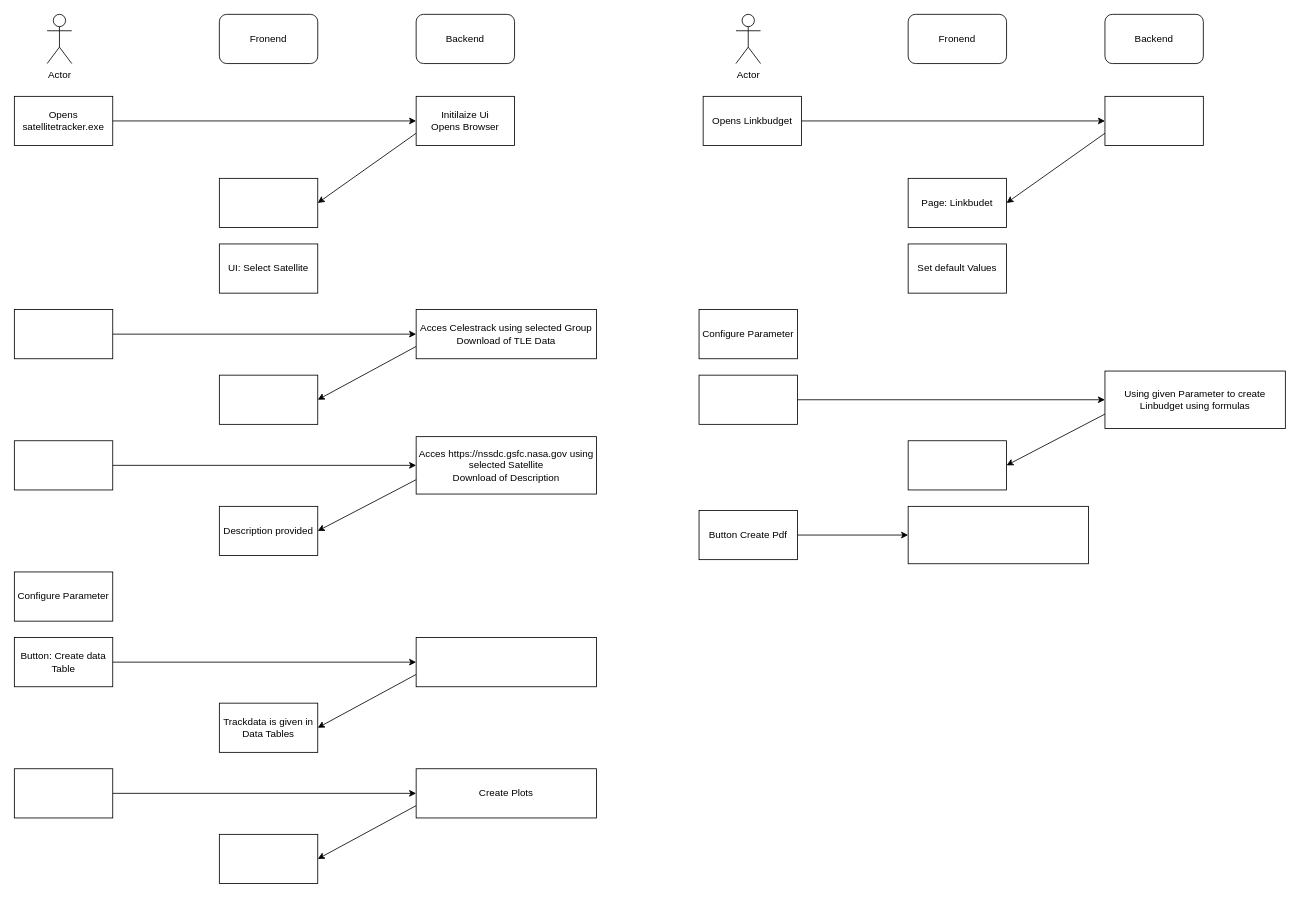
This 1300x898 diagram has some shape labels left out. The box of each missing label's shape, as (x1, y1, x2, y2) in pixels:
(javascript) create jsPDF from given linkbudget table and save pdf document: (907, 506, 1089, 564)
Button: Create Linkbudget: (698, 374, 797, 424)
Create Trackdate using given parameter: (415, 637, 597, 687)
Initilaize Ui Opens Html for Linkbudget: (1104, 96, 1203, 146)
Linkbudget provided: (907, 440, 1007, 490)
Page: Satellite Track: (219, 178, 318, 228)
Plots are given (interactive): (219, 834, 318, 884)
Satellite Dropdown provided: (219, 374, 318, 424)
Select Group: (14, 309, 113, 359)
Select row in Data tables: (14, 768, 113, 818)
Select Satellite: (14, 440, 113, 490)
